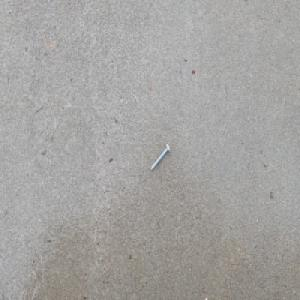Nail: (150, 142, 170, 171)
